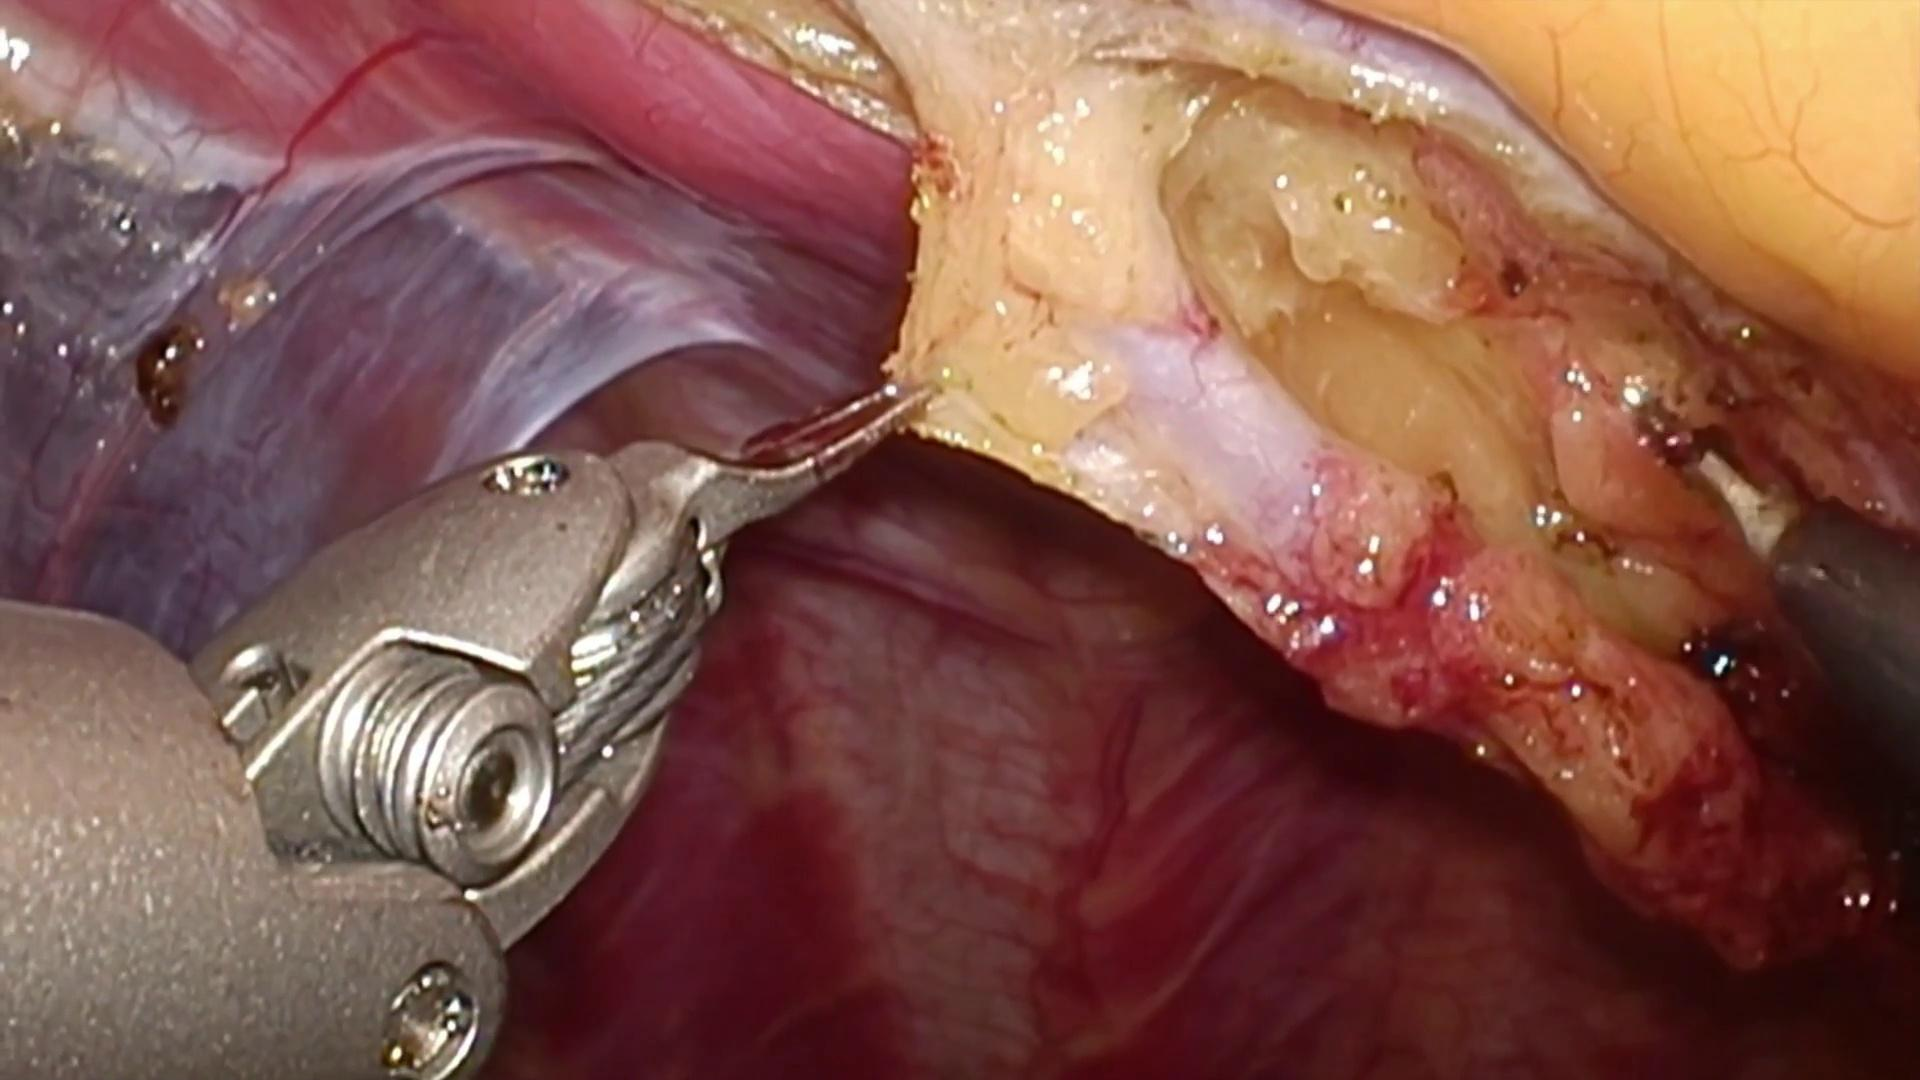Cautery_Spatula: (1687, 442, 1920, 754)
Debakey: (632, 347, 932, 576)
